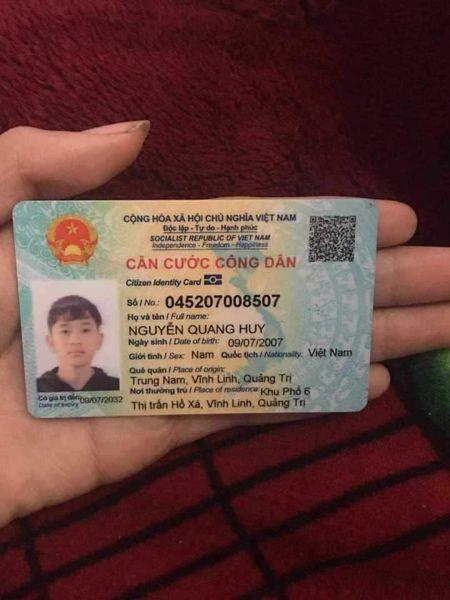bottom_left: (22, 397, 41, 422)
bottom_right: (340, 396, 374, 421)
image_person: (35, 285, 123, 388)
top_left: (4, 196, 33, 222)
top_right: (359, 191, 385, 218)
